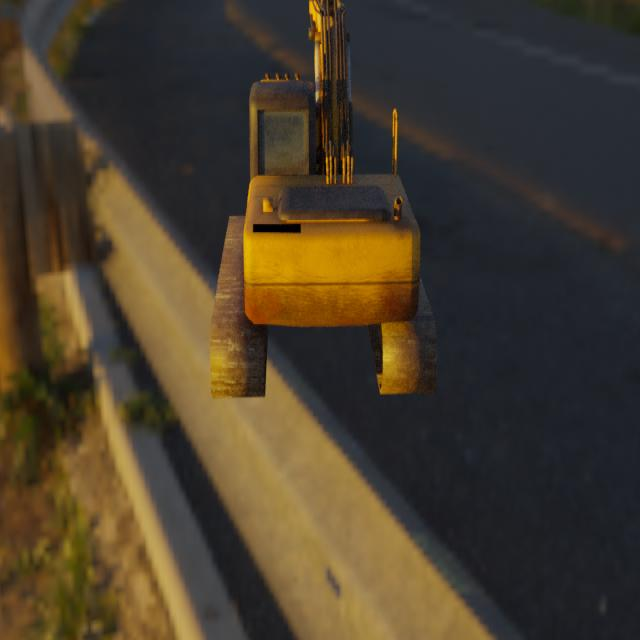excavator: (209, 0, 437, 400)
